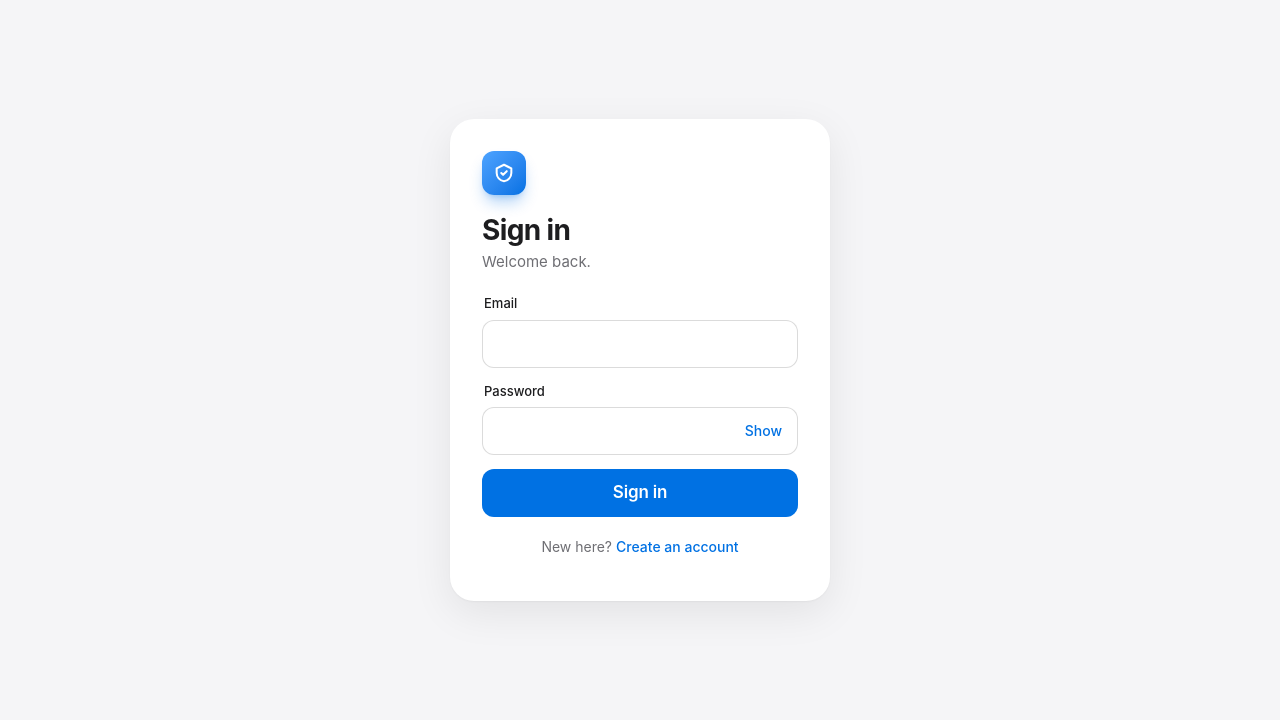
Test: session continuity › an unsafe return path falls back to /
The width and height of the screenshot is (1280, 720).
Check: the heading "Sign in" is shown, box x1=482 y1=213 x2=570 y2=247
Type "ada@example.com" into the field labelled "Email" at (640, 344), box x1=482 y1=320 x2=798 y2=368
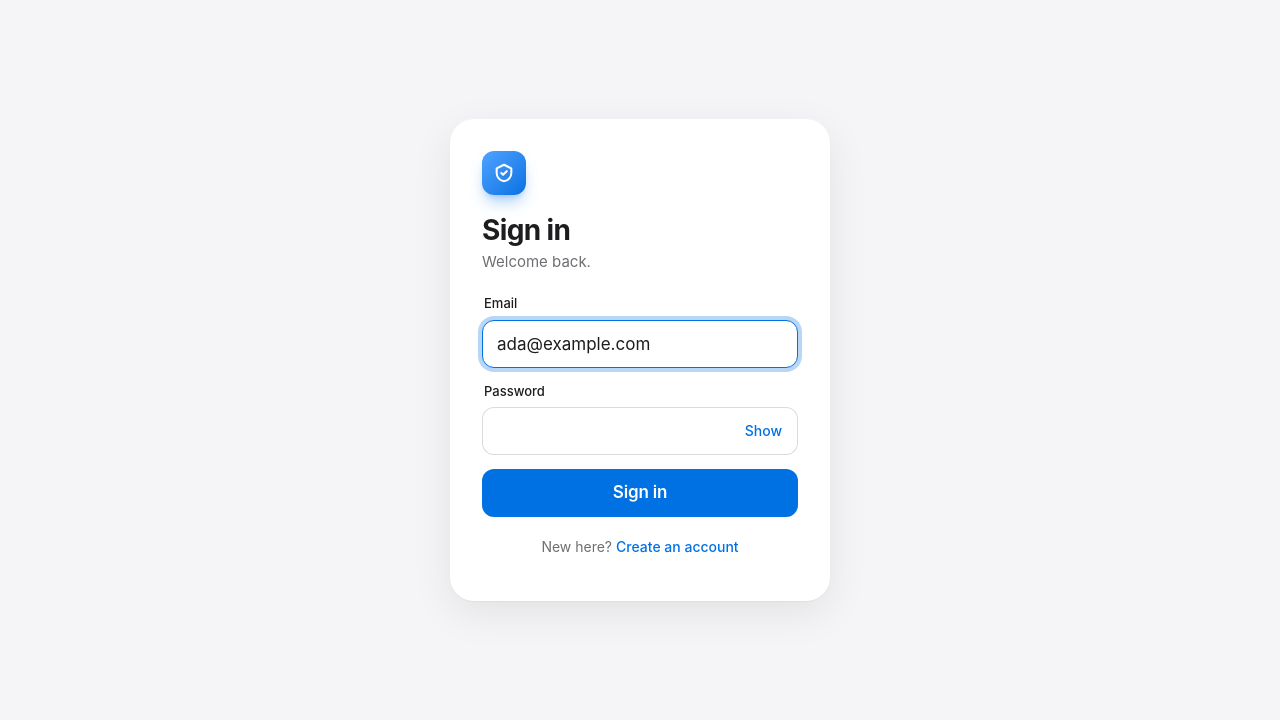
Type "secret" into the password field labelled "Password" at (640, 431), box x1=482 y1=407 x2=798 y2=455
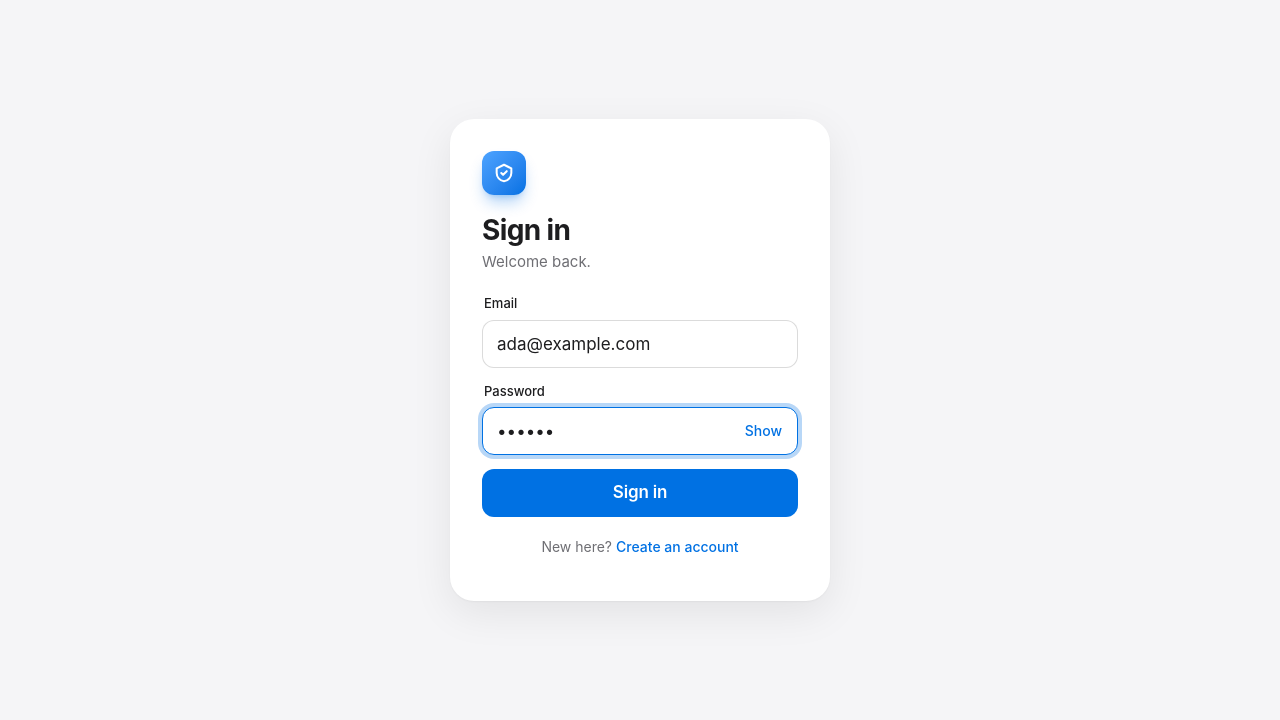
Click the button "Sign in" at (640, 493), box x1=482 y1=469 x2=798 y2=517
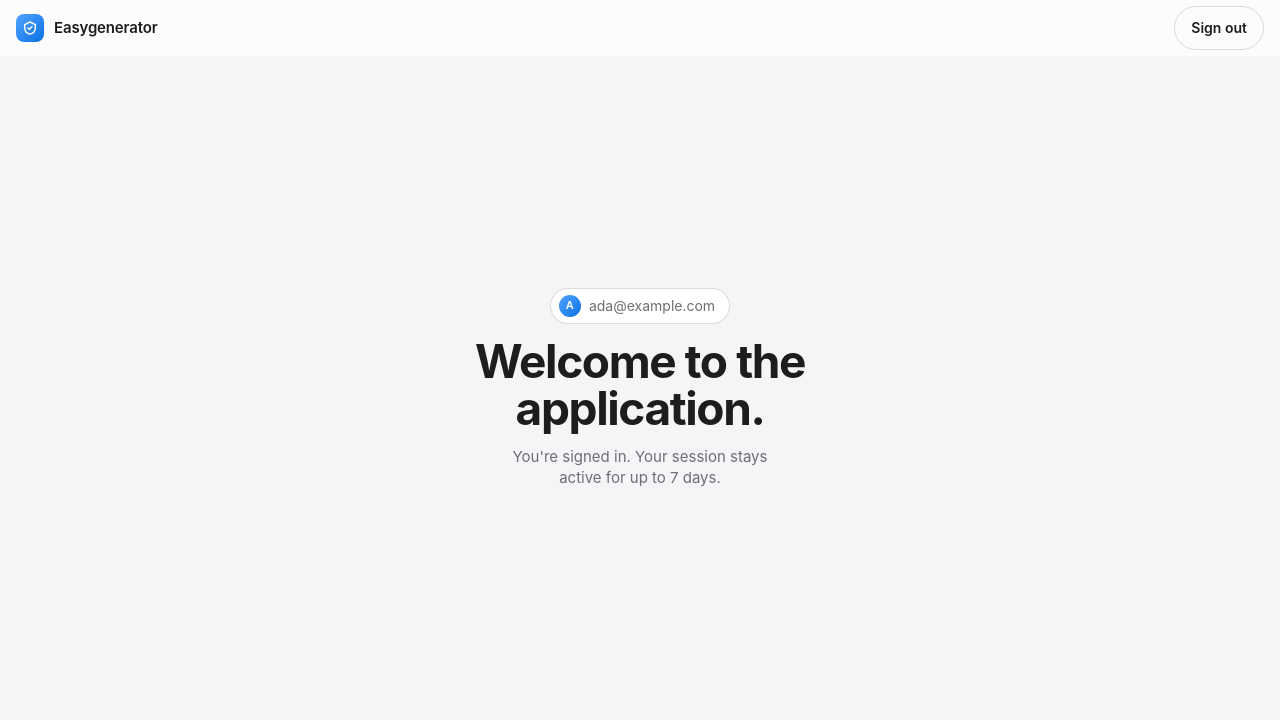
Check: the heading "Welcome to the application." is shown, box x1=475 y1=332 x2=805 y2=436
